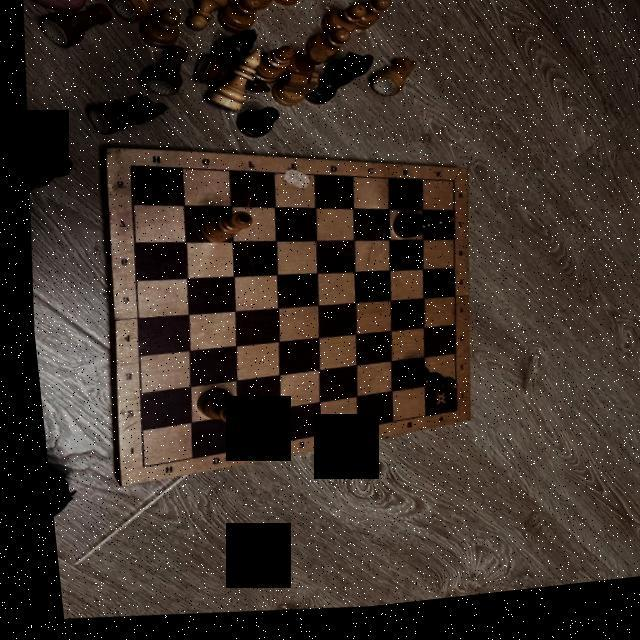chess-table-corners: (126, 462, 140, 476), (121, 160, 132, 175), (440, 414, 450, 425), (442, 187, 452, 196)
